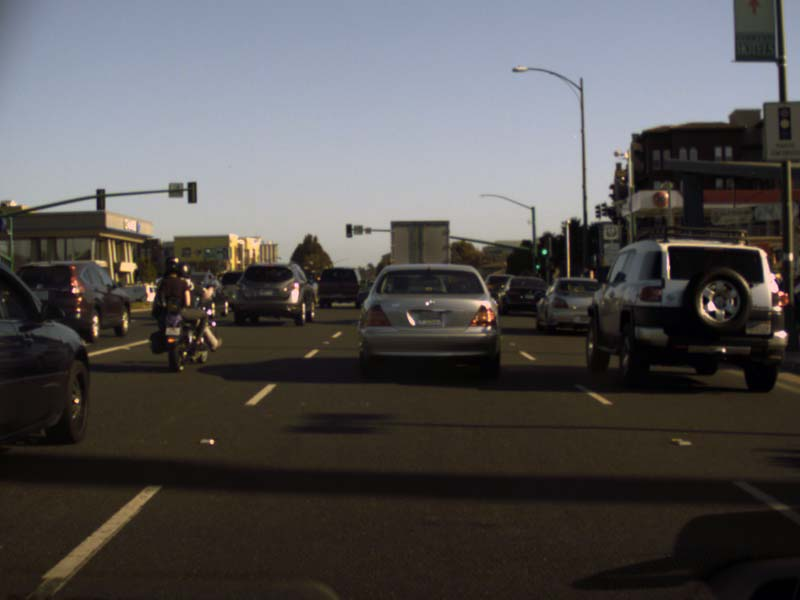Green: (539, 238, 548, 257), (534, 257, 541, 270), (345, 223, 350, 238)
